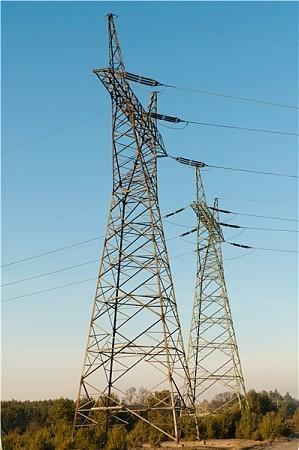power_tower: (81, 9, 193, 445), (184, 158, 262, 409)
